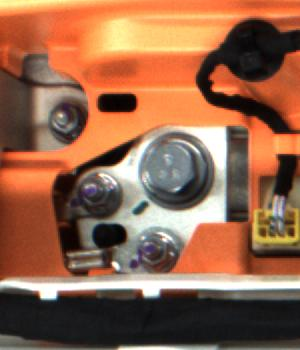nut_b: (135, 127, 216, 217)
